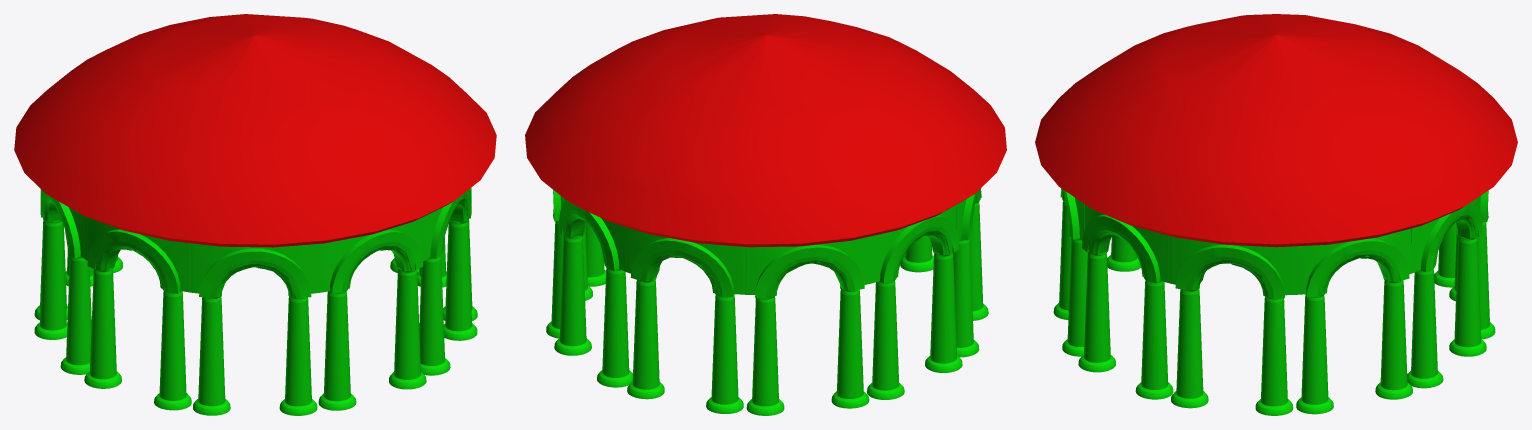
The model's file is RoundTempleTop.fbx.
3 renders of one model, left to right at view 1: azimuth 30°, elevation 25°; view 2: azimuth 150°, elevation 25°; view 3: azimuth 270°, elevation 25°, orthographic.
Parts seen in each view (by area): view 1: Roof_001.001; view 2: Roof_001.001; view 3: Roof_001.001.
Boxes of the visible parts, box(x1,y1,x2,y2) form: Roof_001.001: box(14, 14, 496, 415); Roof_001.001: box(525, 14, 1006, 415); Roof_001.001: box(1035, 14, 1517, 415).
Bounding box in the file's own units: 3006 × 1972 × 3006.
